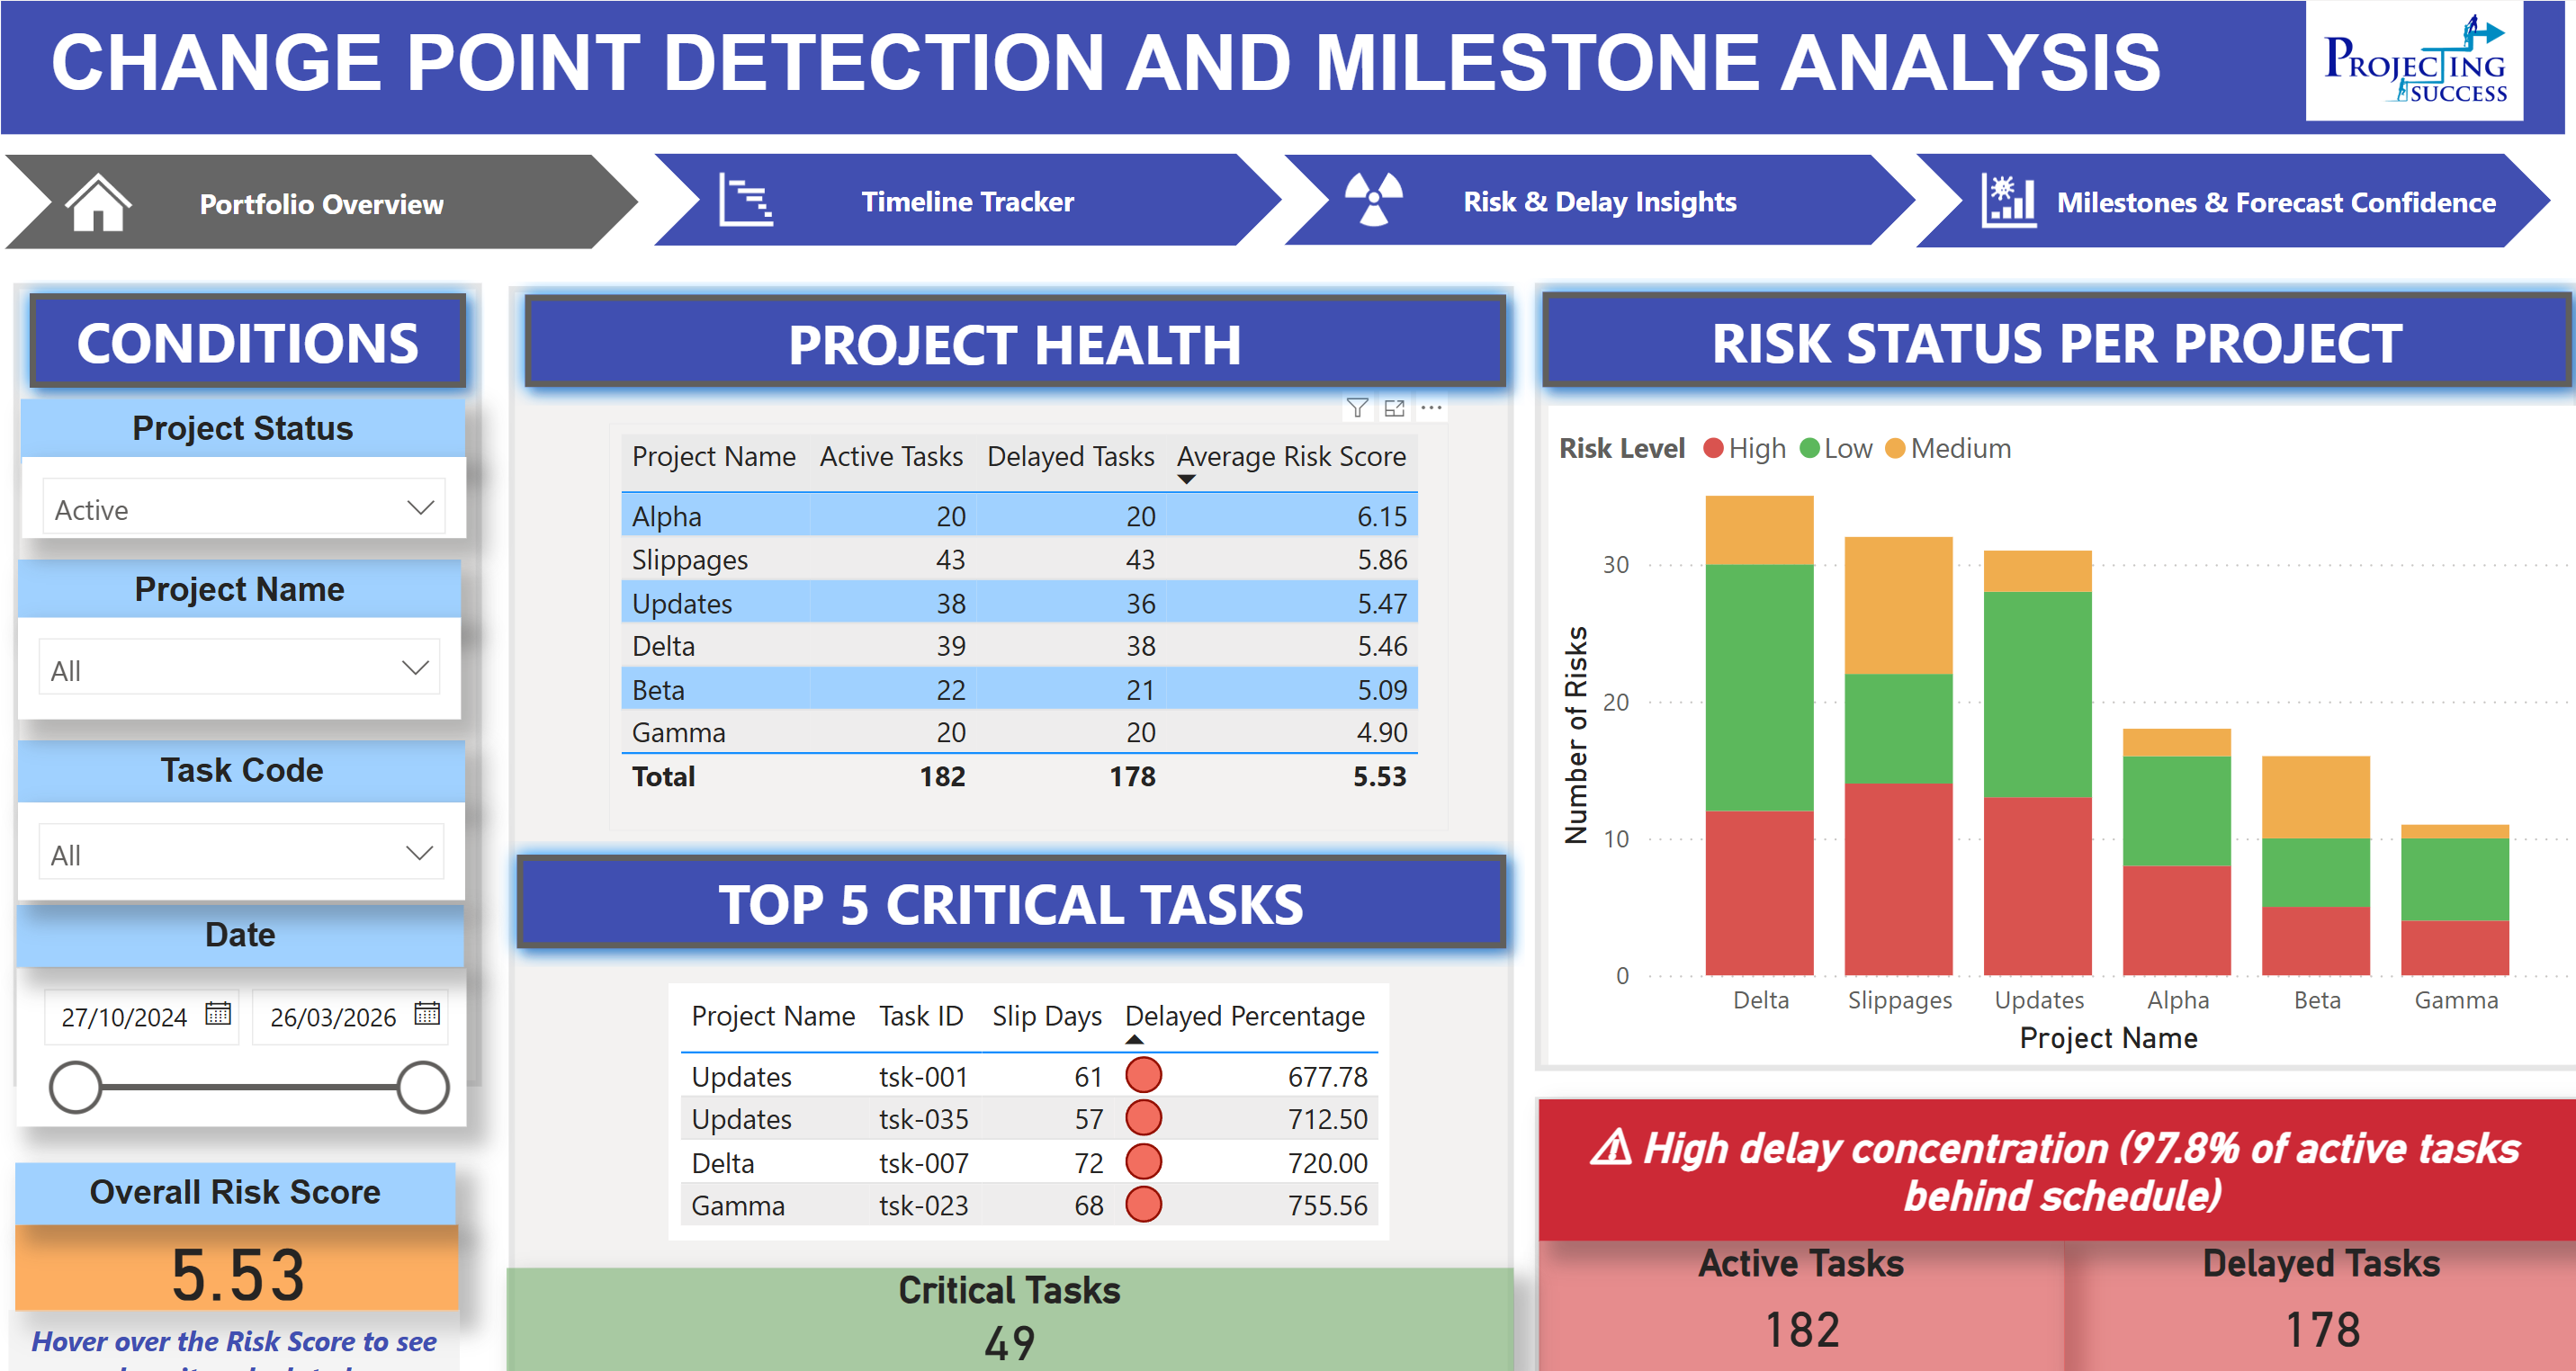

This screenshot's page, from the dashboard's own definition file:
{"tool":"powerbi","page":{"name":"Page 1","canvas":[1280,720],"ordinal":0},"visuals":[{"type":"basicShape","box":[5.8,172.2,241.2,373.5],"z":0},{"type":"basicShape","box":[0,16.9,1267.8,71.9],"z":1000},{"type":"basicShape","box":[247.1,170.2,601.1,534],"z":2000},{"type":"textbox","box":[17.5,254.8,215,32.1],"z":3000},{"type":"textbox","box":[17.5,342.4,216.9,30.2],"z":4000},{"type":"slicer","fields":{"Values":["DateList.Date"]},"box":[17.7,468.9,217.1,76.5],"z":5000},{"type":"textbox","box":[17.5,438.7,216.9,30.2],"z":6000},{"type":"textbox","box":[31.4,26.8,1084.2,70],"z":7000},{"type":"basicShape","box":[848.1,172.2,419.2,373.5],"z":8000},{"type":"basicShape","box":[848.1,553.4,421.2,142],"z":9000},{"type":"image","box":[1115.6,17.5,133.3,69.1],"z":10000},{"type":"basicShape","box":[5.8,545.7,241.2,150.8],"z":11000},{"type":"card","title":"Total Tasks","fields":{"Values":["task_analysis.task_id"]},"box":[868.6,619.6,380.3,53.5],"z":12000},{"type":"slicer","fields":{"Values":["task_cleaned.task_id"]},"box":[17.5,372.5,216.9,47.7],"z":13000},{"type":"slicer","fields":{"Values":["task_cleaned.project_name"]},"box":[17.5,283,215,49.6],"z":14000},{"type":"card","title":"Active Tasks","fields":{"Values":["task_cleaned.ActiveTask"]},"box":[868.6,565.1,182.9,50.6],"z":15000},{"type":"card","title":"Average Delayed Tasks (%)","fields":{"Values":["task_analysis.delayed_percentage"]},"box":[1051.4,565.1,197.4,50.6],"z":16000},{"type":"card","title":"Overall Risk Score","fields":{"Values":["task_cleaned.severity_score"]},"box":[19.5,552.5,215,138.1],"z":17000},{"type":"tableEx","fields":{"Values":["task_cleaned.project_name","task_cleaned.task_id","schedule_metrics.is_active","schedule_metrics.delayed_tasks","risk_analysis.overall_risk"]},"box":[296.7,241.2,480.5,161.5],"z":18000},{"type":"keyDriversVisual","fields":{"ExplainBy":["risk_analysis.resource_risk","risk_analysis.schedule_risk","risk_analysis.dependency_risk"],"Target":["risk_analysis.overall_risk"],"Details":["risk_analysis.dependency_factors","risk_analysis.schedule_factors","risk_analysis.resource_factors"]},"box":[855.9,179.9,401.7,350.2],"z":19000},{"type":"actionButton","box":[16.5,179.9,217.9,63.2],"z":20000},{"type":"actionButton","box":[256.7,178.1,580,63.3],"z":21000},{"type":"actionButton","title":"Ask a question about your project","box":[634.2,98.2,306.4,43.8],"z":22000},{"type":"actionButton","title":"Ask a question about your project","box":[328.8,97.3,304.4,44.7],"z":23000},{"type":"actionButton","title":"Ask a question about your project","box":[14.6,98.2,307.4,45.7],"z":24000},{"type":"actionButton","title":"Ask a question about your project","box":[940.5,97.3,308.3,45.7],"z":25000},{"type":"tableEx","fields":{"Values":["task_analysis.project_id","task_analysis.task_id","task_analysis.delay_days","task_analysis.delayed_percentage"]},"box":[328.8,483.4,416.3,163.4],"z":26000},{"type":"actionButton","box":[321.9,426,428.9,63.2],"z":27000},{"type":"card","title":"Critical Tasks","fields":{"Values":["task_analysis.is_critical_at_risk"]},"box":[328.8,626.4,416.3,50.6],"z":28000},{"type":"actionButton","box":[848.1,170.2,400.7,63.2],"z":29000}]}

Visuals, with their boxes on the page's 1280x720 design canvas (x1, y1, x2, y2). These are canvas units, not pixel positions in the 2576x1371 screenshot, which may show the page scaled, cropped or inside an application window:
basicShape: {"left": 6, "top": 172, "right": 247, "bottom": 546}
basicShape: {"left": 0, "top": 17, "right": 1268, "bottom": 89}
basicShape: {"left": 247, "top": 170, "right": 848, "bottom": 704}
textbox: {"left": 18, "top": 255, "right": 232, "bottom": 287}
textbox: {"left": 18, "top": 342, "right": 234, "bottom": 373}
slicer - DateList.Date: {"left": 18, "top": 469, "right": 235, "bottom": 545}
textbox: {"left": 18, "top": 439, "right": 234, "bottom": 469}
textbox: {"left": 31, "top": 27, "right": 1116, "bottom": 97}
basicShape: {"left": 848, "top": 172, "right": 1267, "bottom": 546}
basicShape: {"left": 848, "top": 553, "right": 1269, "bottom": 695}
image: {"left": 1116, "top": 18, "right": 1249, "bottom": 87}
basicShape: {"left": 6, "top": 546, "right": 247, "bottom": 696}
"Total Tasks" card: {"left": 869, "top": 620, "right": 1249, "bottom": 673}
slicer - task_cleaned.task_id: {"left": 18, "top": 372, "right": 234, "bottom": 420}
slicer - task_cleaned.project_name: {"left": 18, "top": 283, "right": 232, "bottom": 333}
"Active Tasks" card: {"left": 869, "top": 565, "right": 1052, "bottom": 616}
"Average Delayed Tasks (%)" card: {"left": 1051, "top": 565, "right": 1249, "bottom": 616}
"Overall Risk Score" card: {"left": 20, "top": 552, "right": 234, "bottom": 691}
tableEx - task_cleaned.project_name x task_cleaned.task_id: {"left": 297, "top": 241, "right": 777, "bottom": 403}
keyDriversVisual - risk_analysis.resource_risk x risk_analysis.schedule_risk: {"left": 856, "top": 180, "right": 1258, "bottom": 530}
actionButton: {"left": 16, "top": 180, "right": 234, "bottom": 243}
actionButton: {"left": 257, "top": 178, "right": 837, "bottom": 241}
"Ask a question about your project" actionButton: {"left": 634, "top": 98, "right": 941, "bottom": 142}
"Ask a question about your project" actionButton: {"left": 329, "top": 97, "right": 633, "bottom": 142}
"Ask a question about your project" actionButton: {"left": 15, "top": 98, "right": 322, "bottom": 144}
"Ask a question about your project" actionButton: {"left": 940, "top": 97, "right": 1249, "bottom": 143}
tableEx - task_analysis.project_id x task_analysis.task_id: {"left": 329, "top": 483, "right": 745, "bottom": 647}
actionButton: {"left": 322, "top": 426, "right": 751, "bottom": 489}
"Critical Tasks" card: {"left": 329, "top": 626, "right": 745, "bottom": 677}
actionButton: {"left": 848, "top": 170, "right": 1249, "bottom": 233}
